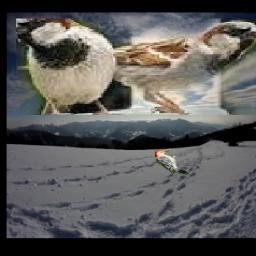Sparrow: (16, 19, 256, 116)
Woodpecker: (155, 148, 191, 176)
